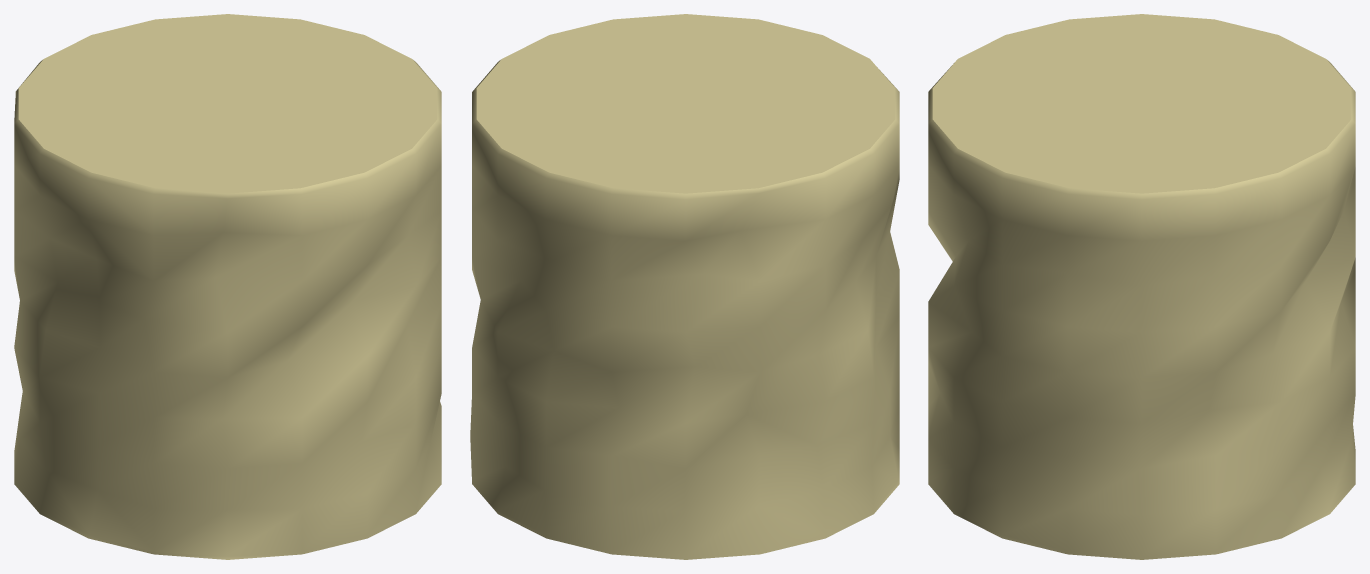
Rendered from KaxigPedantLampShade.FBX.
3 renders of one model, left to right at view 1: azimuth 30°, elevation 25°; view 2: azimuth 150°, elevation 25°; view 3: azimuth 270°, elevation 25°, orthographic.
Parts seen in each view (by area): view 1: KaxigPedantLampShade; view 2: KaxigPedantLampShade; view 3: KaxigPedantLampShade.
Part boxes in pixels (bbox=[...]): KaxigPedantLampShade: bbox=[14, 14, 441, 559]; KaxigPedantLampShade: bbox=[470, 14, 899, 559]; KaxigPedantLampShade: bbox=[928, 14, 1355, 559].
Size of the model in its own units: 1372 by 1270 by 1351.
